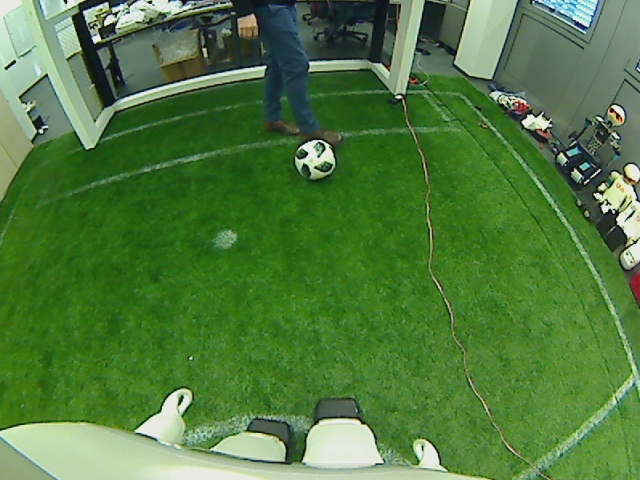ball: (292, 136, 339, 181)
